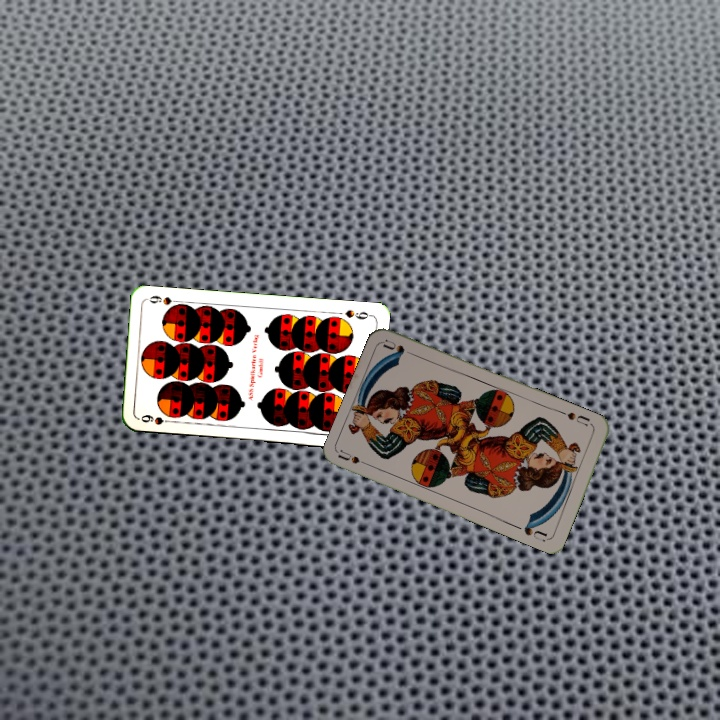S9: (137, 410, 177, 427), (341, 305, 374, 322)
SU: (335, 446, 375, 470), (563, 408, 596, 429)
